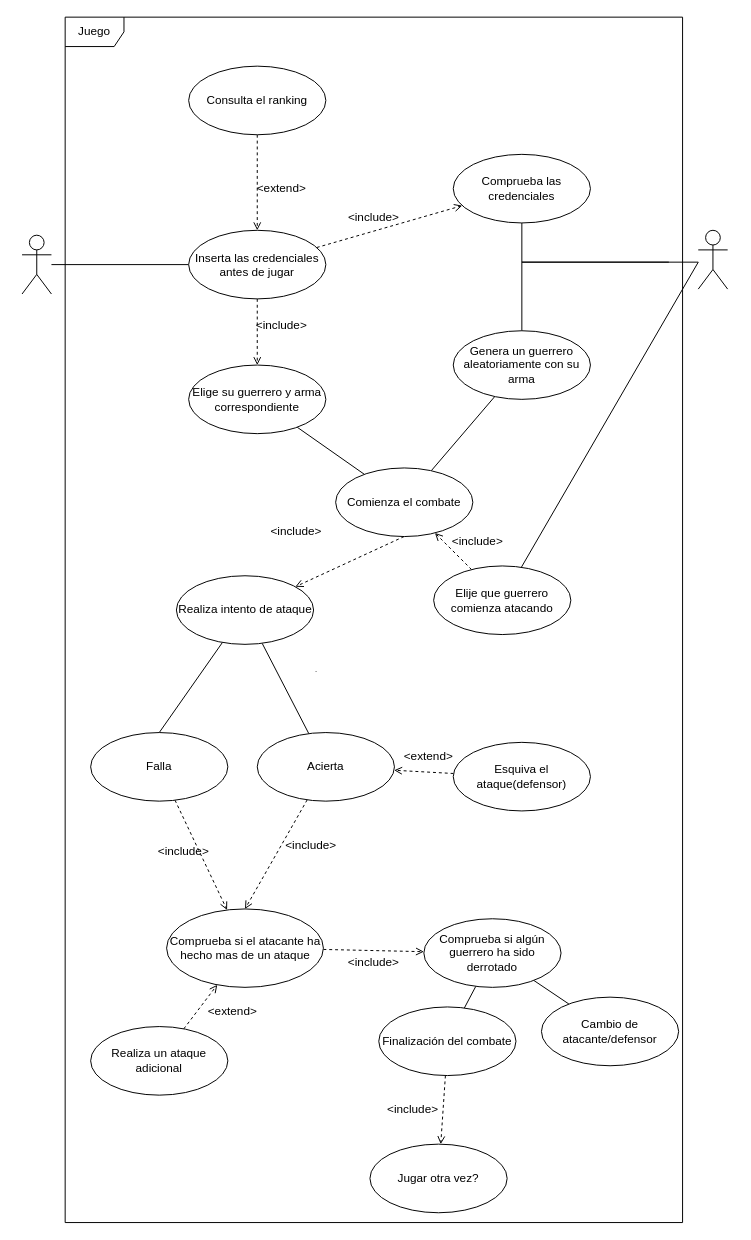
The diagram is 751 pixels wide and 1240 high, and some of its shapes have lost their labels. The shapes that lost their labels are listed below. From the top down, each one's centre as x and y in pixels, then its label:
point 36,264: Usuario
point 712,259: Sistema
